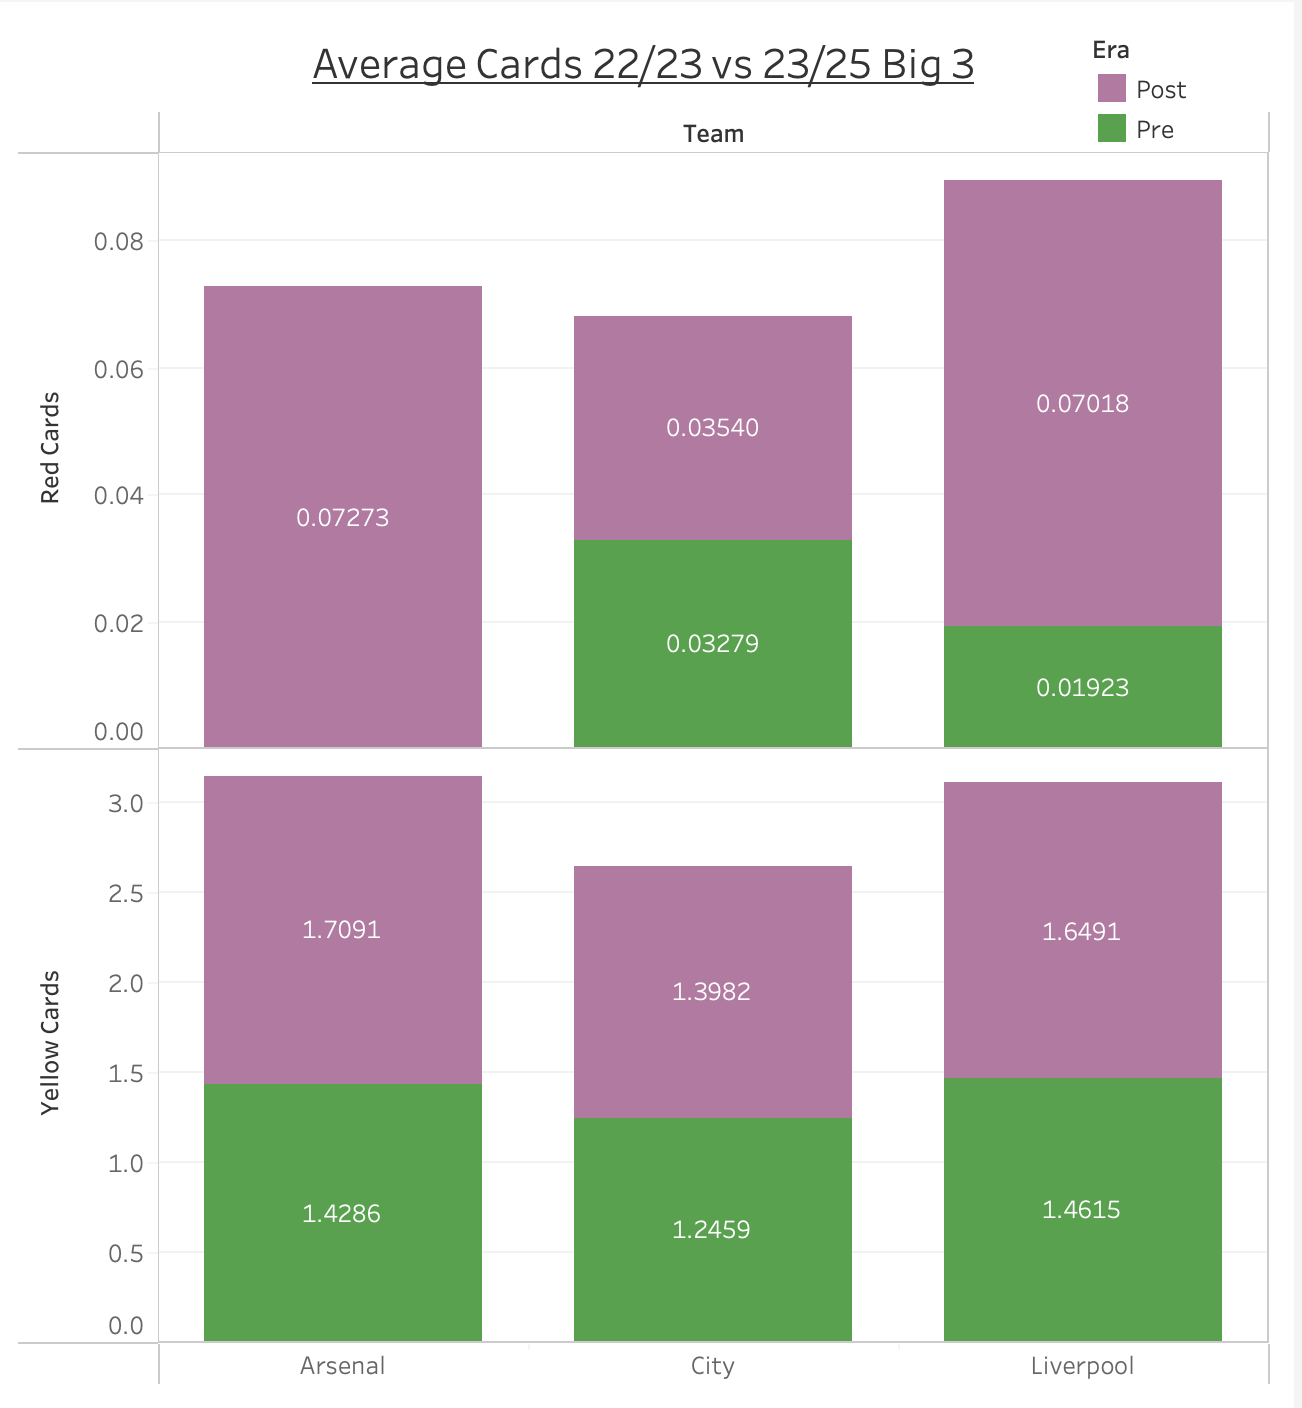

This screenshot's page, from the dashboard's own definition file:
{"tool":"tableau","page":{"name":"Dashboard 4","canvas":[650,860],"ordinal":3},"visuals":[{"type":"worksheet","title":"Average Cards 22/23 vs 23/25 Big 3","mark":"Automatic","rows":["CrdR","CrdY"],"cols":["Team"],"box":[8,9.8,634,840.5]}]}

Visuals, with their boxes on the page's 650x860 design canvas (x1, y1, x2, y2). These are canvas units, not pixel positions in the 1302x1408 screenshot, which may show the page scaled, cropped or inside an application window:
"Average Cards 22/23 vs 23/25 Big 3" worksheet: [8, 10, 642, 850]
